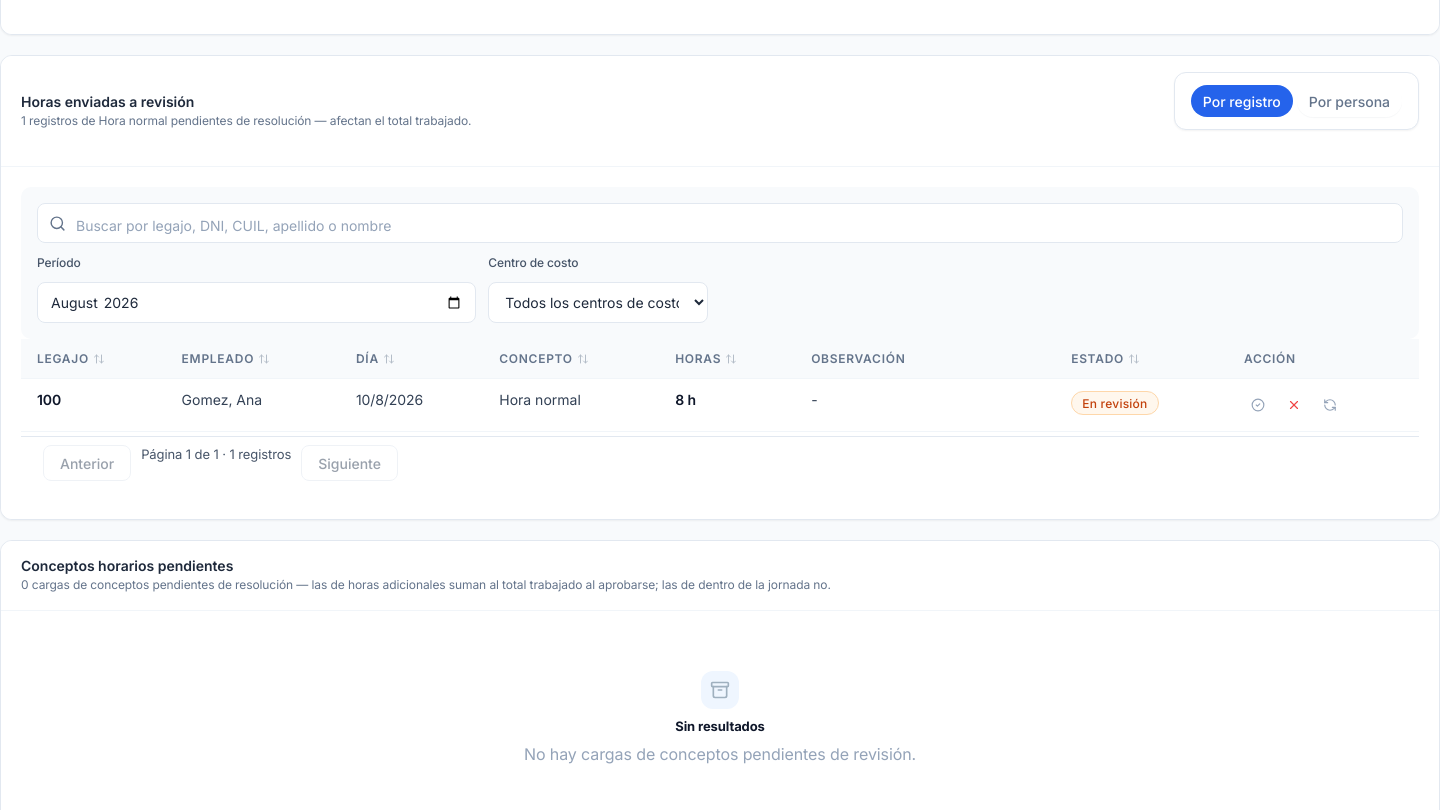
Test case: HoursPage — las acciones de revisión no fallan en silencio (Etapa 7A) › si aprobar una carga horaria falla, muestra el error y no lo traga
The image size is (1440, 810).
(page scrolled)
Click the button named "Aprobar" at (1258, 406), box x1=1244 y1=392 x2=1272 y2=420
(page scrolled)
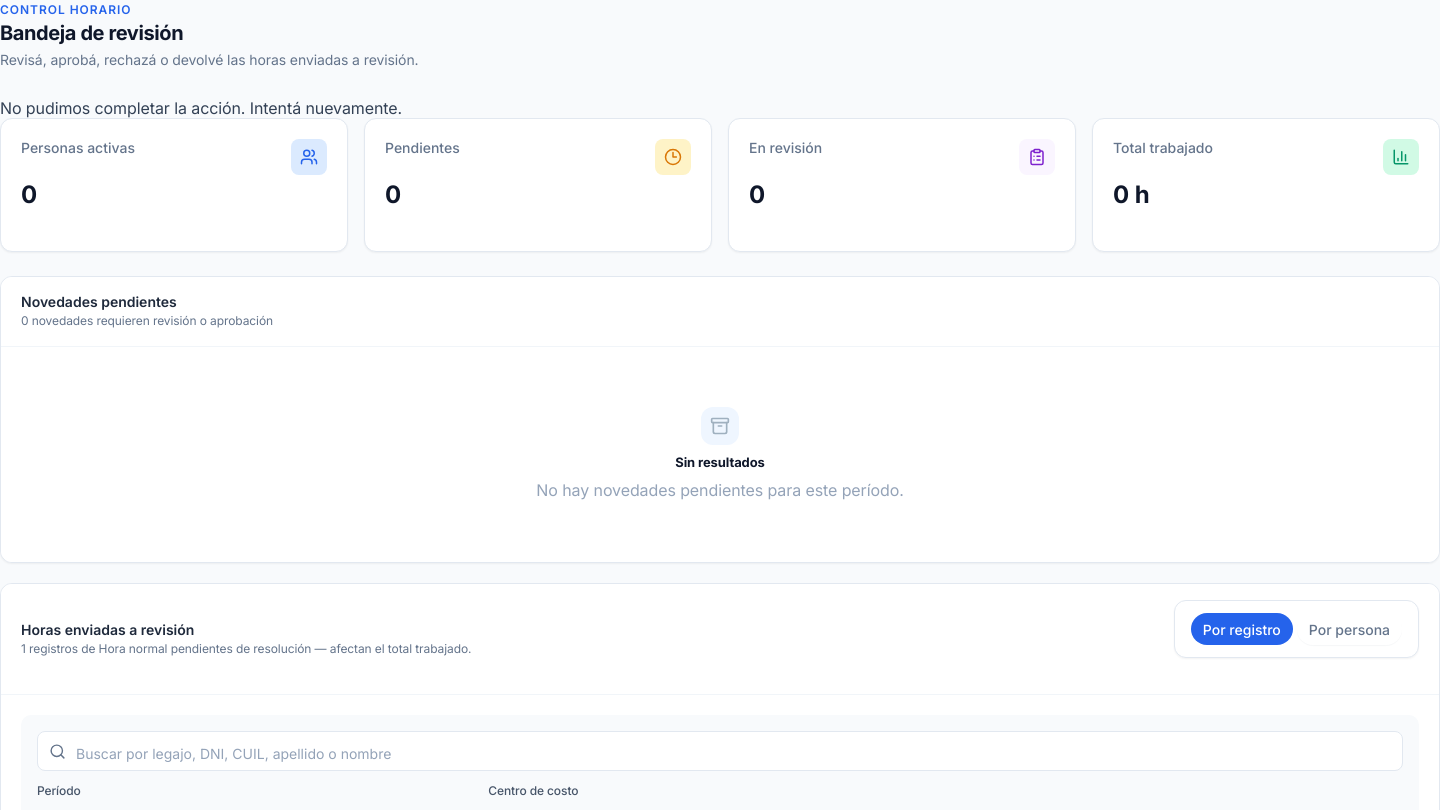
Check: the text "No pudimos completar la acción. Intentá nuevamente." is shown, box x1=0 y1=98 x2=402 y2=118
